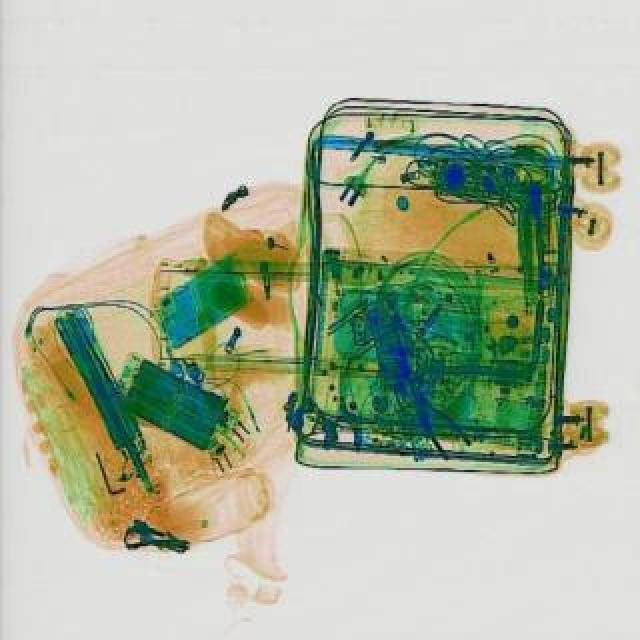wrench: (396, 376, 476, 460)
